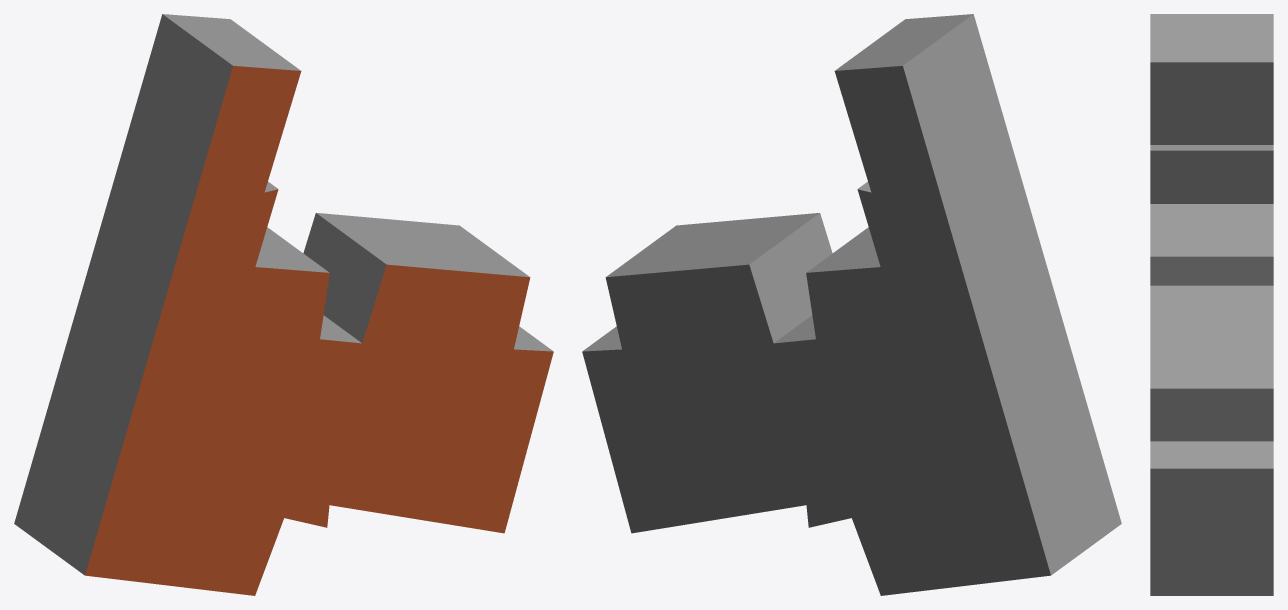
File: construction_2012_assumed_A_Casa_h6m.obj
3 renders of one model, left to right at view 1: azimuth 30°, elevation 25°; view 2: azimuth 150°, elevation 25°; view 3: azimuth 270°, elevation 25°, orthographic. The views are drawn at different scales.
Visible parts, largest first — view 1: construction_2012_assumed_A_Casa; view 2: construction_2012_assumed_A_Casa; view 3: construction_2012_assumed_A_Casa.
Boxes of the visible parts, x1=… form: construction_2012_assumed_A_Casa: x1=14, y1=14, x2=553, y2=595; construction_2012_assumed_A_Casa: x1=582, y1=14, x2=1121, y2=595; construction_2012_assumed_A_Casa: x1=1150, y1=14, x2=1273, y2=595.
Size of the model in its own units: 22.95 by 25.05 by 6.
